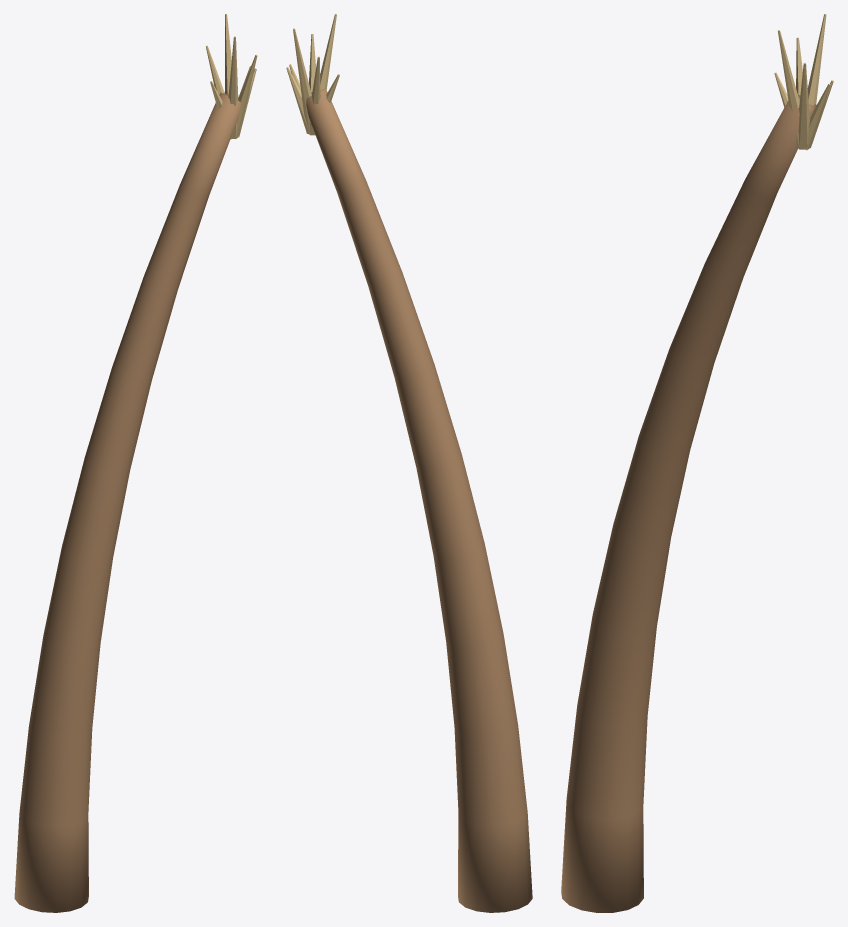
Rendered from storm_broken_coconut_palm_tropical_island_and_palm_trees_6799.glb.
3 renders of one model, left to right at view 1: azimuth 30°, elevation 25°; view 2: azimuth 150°, elevation 25°; view 3: azimuth 330°, elevation 25°, orthographic. The views are drawn at different scales.
Visible parts, largest first — view 1: storm-broken-palm; view 2: storm-broken-palm; view 3: storm-broken-palm.
Part boxes in pixels (box(x1,y1,x2,y2)): storm-broken-palm: box(14, 14, 257, 912); storm-broken-palm: box(286, 14, 532, 912); storm-broken-palm: box(561, 14, 833, 912).
Size of the model in its own units: 1.31 by 4.39 by 0.3598.
